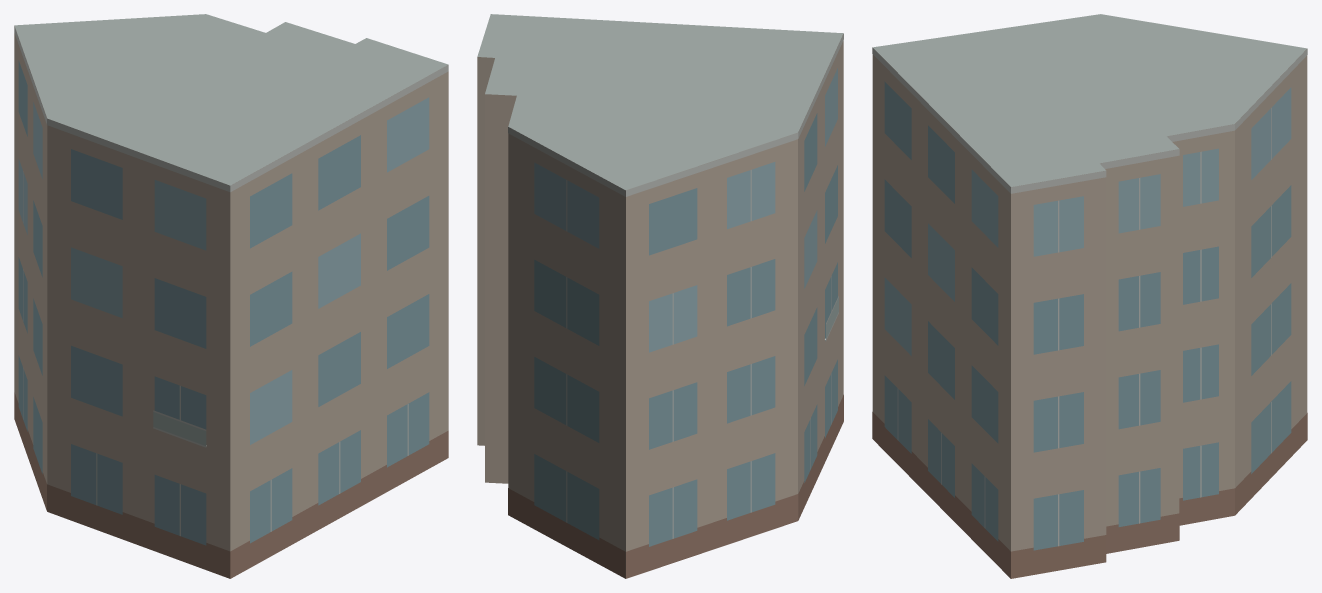
File: survey-upis-32737106.glb
The picture shows the model from 3 angles, left to right: view 1: azimuth 30°, elevation 25°; view 2: azimuth 150°, elevation 25°; view 3: azimuth 270°, elevation 25°; orthographic projection.
Visible parts, largest first — view 1: survey-upis-32737106.tmp; view 2: survey-upis-32737106.tmp; view 3: survey-upis-32737106.tmp.
Boxes of the visible parts, box(x1,y1,x2,y2) form: survey-upis-32737106.tmp: box(14, 14, 448, 578); survey-upis-32737106.tmp: box(477, 14, 843, 578); survey-upis-32737106.tmp: box(872, 14, 1307, 578).
Bounding box in the file's own units: 13.61 × 14.34 × 14.44.
